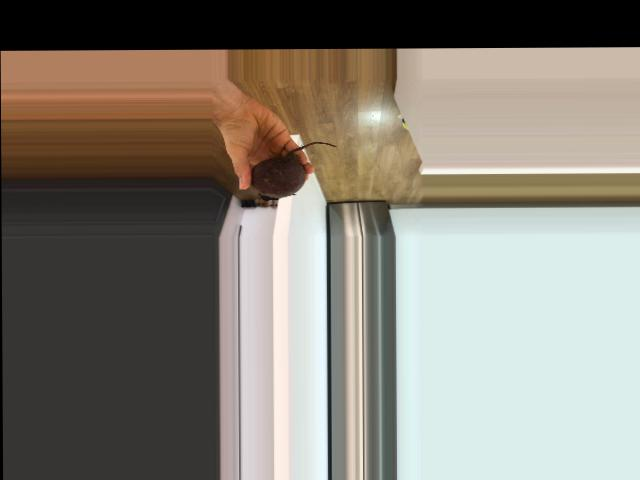beet: (251, 141, 337, 200)
